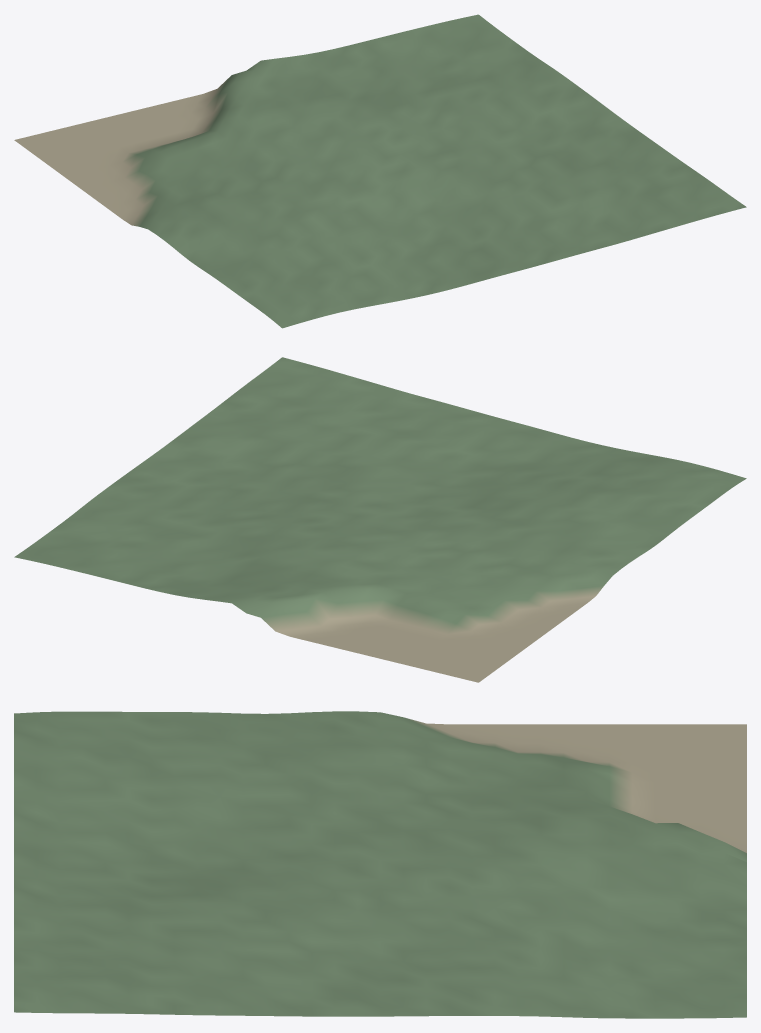
3 renders of one model, top to bottom at view 1: azimuth 30°, elevation 25°; view 2: azimuth 150°, elevation 25°; view 3: azimuth 270°, elevation 25°, orthographic. The views are drawn at different scales.
Parts seen in each view (by area): view 1: Terrain-col; view 2: Terrain-col; view 3: Terrain-col.
Boxes of the visible parts, x1,y1,x2,y2 form: Terrain-col: (14, 14, 746, 328); Terrain-col: (14, 357, 746, 682); Terrain-col: (14, 711, 746, 1018).
Size of the model in its own units: 256 by 10.65 by 256.
